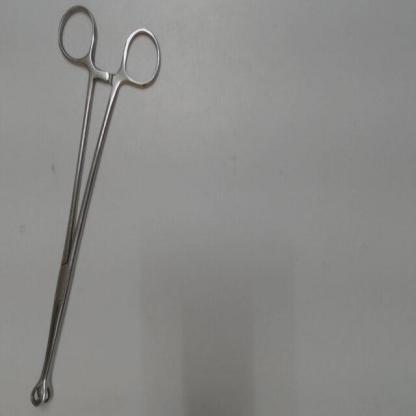8 Babcock Tissue Forceps: (22, 1, 169, 412)
